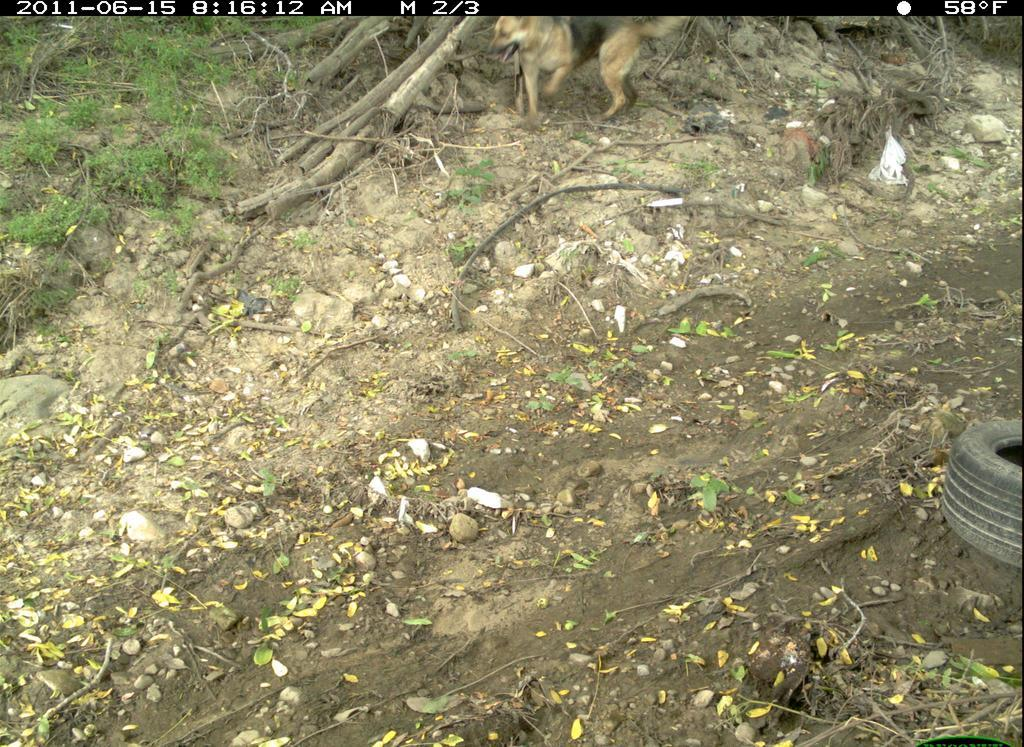dog: (479, 13, 692, 132)
